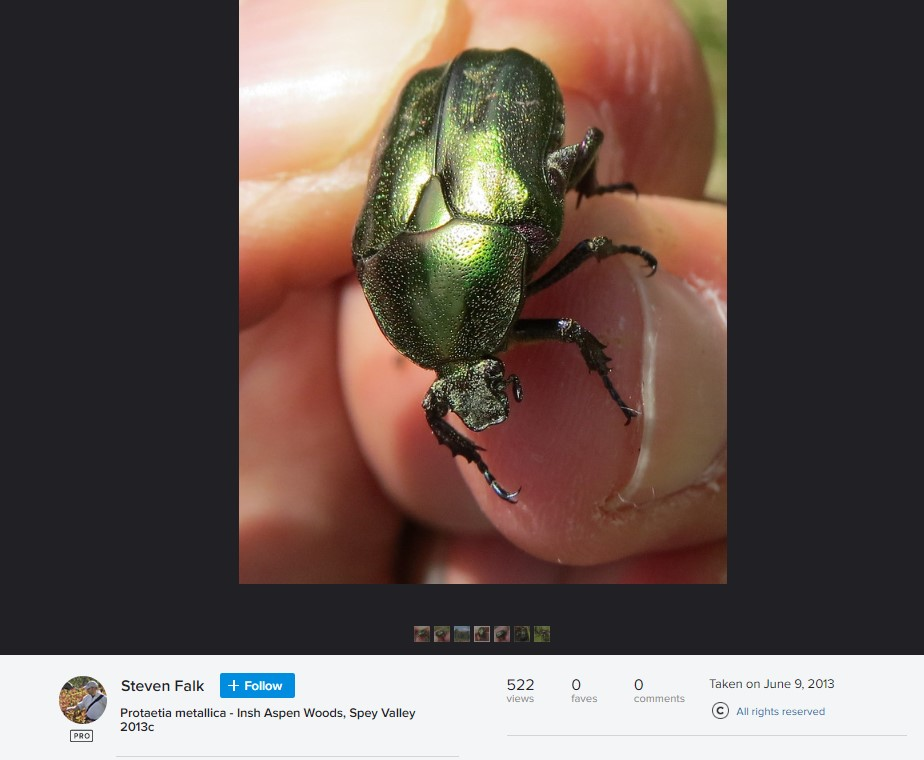Protaetia_metallica: (345, 35, 658, 511)
